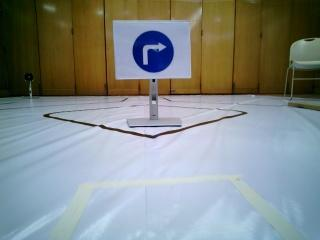right: (123, 26, 187, 75)
